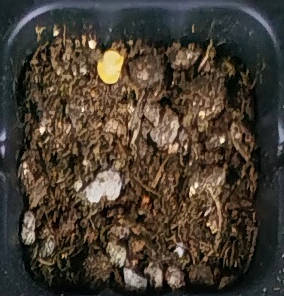chilli seed: (95, 49, 125, 84)
